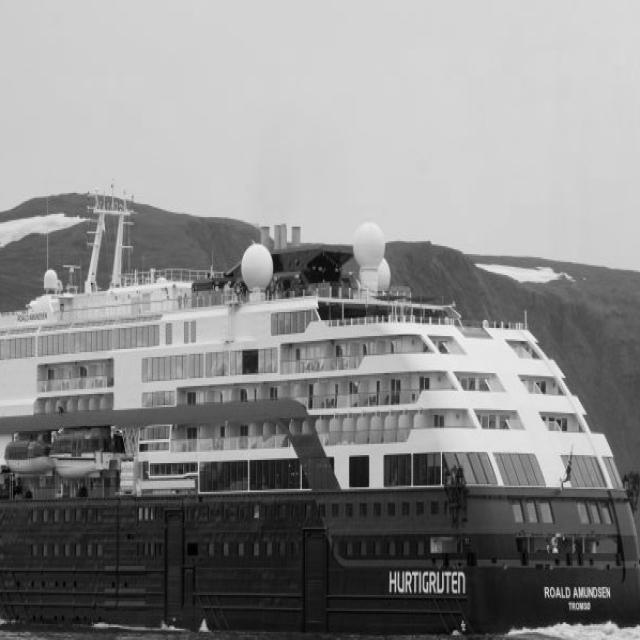cruises: (1, 174, 640, 640)
